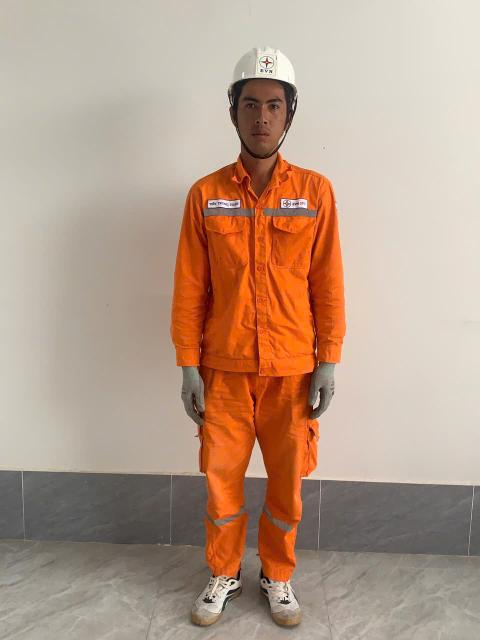gloves: (162, 358, 227, 436), (297, 355, 349, 427)
helmet: (219, 24, 315, 96)
shoes: (241, 552, 321, 638), (181, 566, 247, 640)
